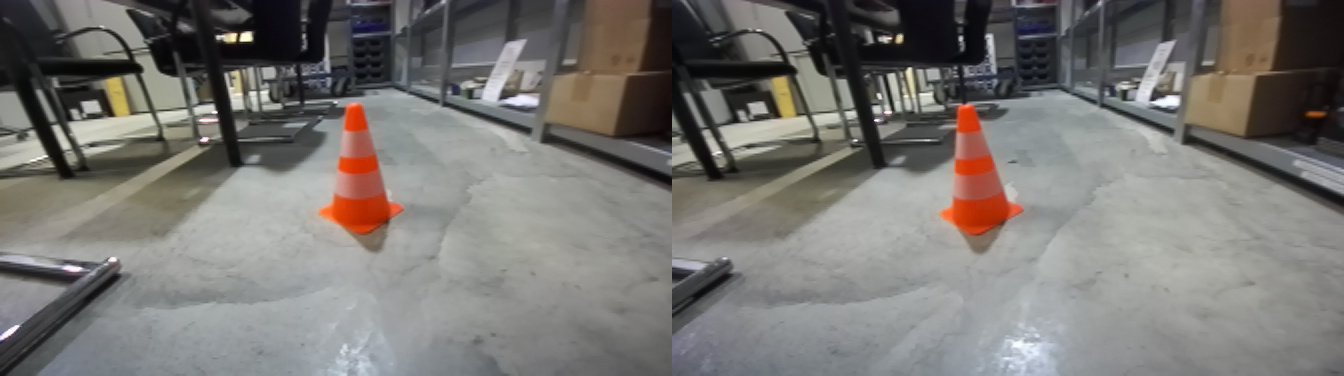cone: (941, 105, 1031, 241), (321, 106, 409, 241)
